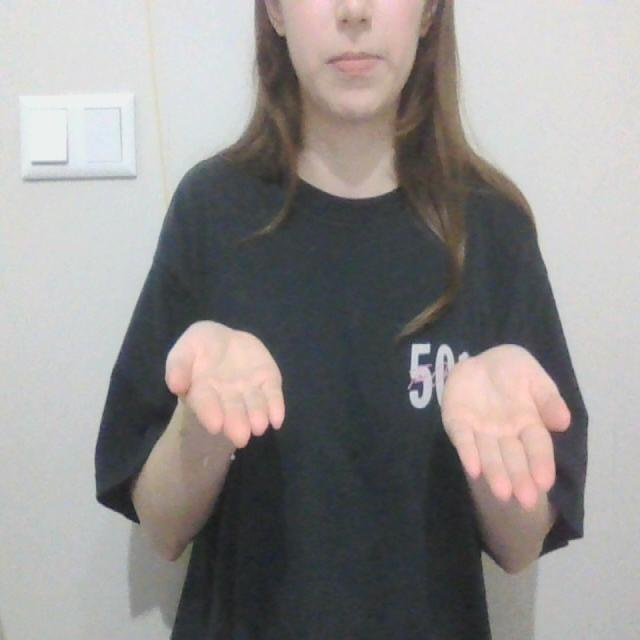Evet: (162, 316, 576, 513)
